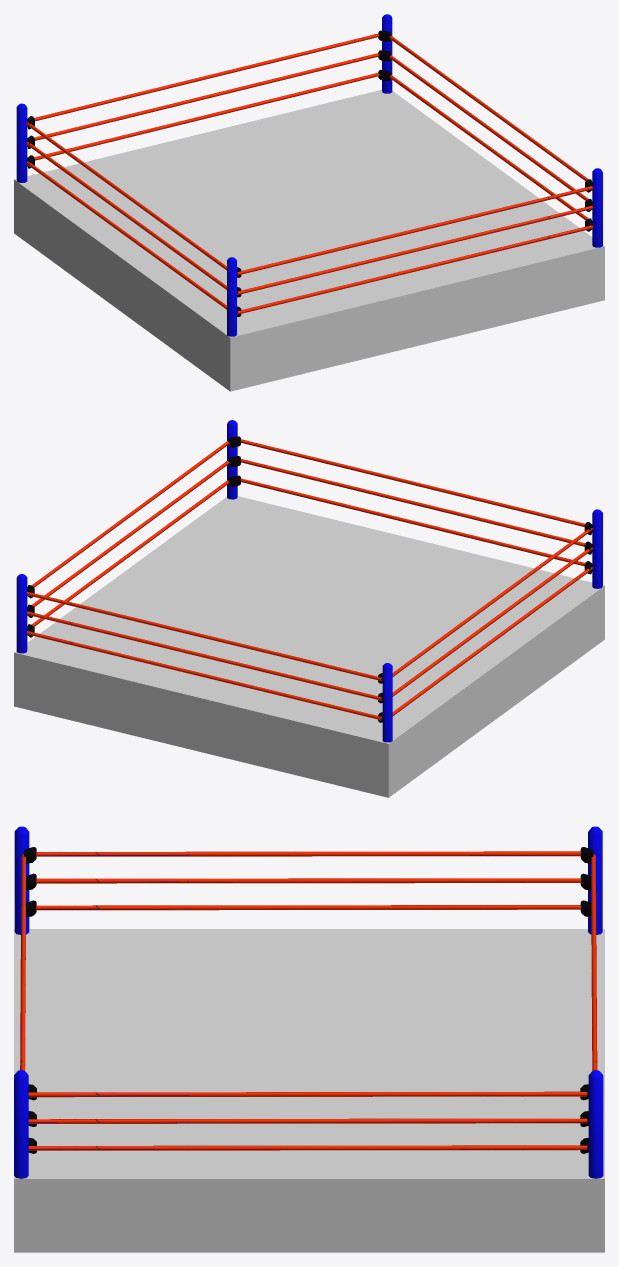
File: Ring.fbx
3 renders of one model, top to bottom at view 1: azimuth 30°, elevation 25°; view 2: azimuth 150°, elevation 25°; view 3: azimuth 270°, elevation 25°, orthographic. The views are drawn at different scales.
Visible parts, largest first — view 1: ringFloor, apron, RingPosts/Ropes; view 2: ringFloor, apron, RingPosts/Ropes; view 3: ringFloor, apron, RingPosts/Ropes.
Part boxes in pixels (bbox=[...]): ringFloor: bbox=[14, 89, 604, 337]; apron: bbox=[14, 179, 604, 391]; RingPosts/Ropes: bbox=[16, 14, 602, 336]; ringFloor: bbox=[14, 496, 604, 743]; apron: bbox=[14, 586, 604, 797]; RingPosts/Ropes: bbox=[16, 420, 602, 742]; ringFloor: bbox=[14, 929, 604, 1178]; apron: bbox=[14, 1179, 604, 1252]; RingPosts/Ropes: bbox=[14, 826, 603, 1178].
Bounding box in the file's own units: 8 × 2.67 × 8.
